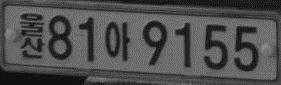1: (173, 22, 198, 67), (77, 17, 101, 62)
5: (202, 23, 228, 69), (233, 26, 259, 71)
8: (47, 13, 72, 60)
9: (142, 19, 167, 65)
아: (105, 21, 130, 61)
울산_V: (19, 12, 45, 59)
